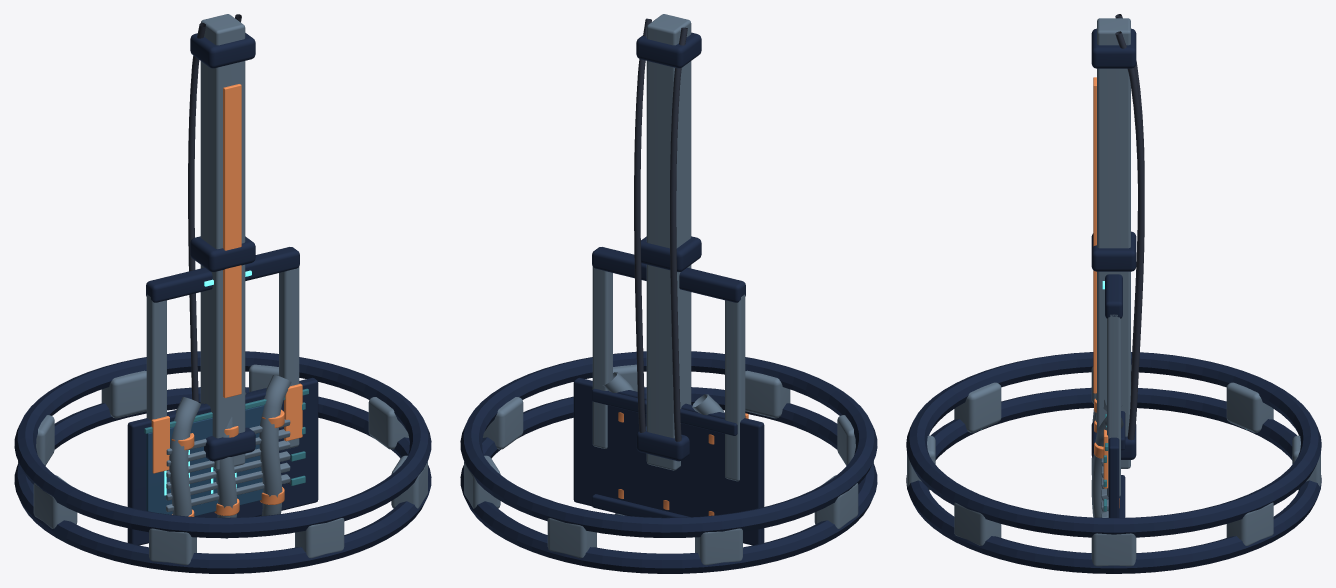
Rendered from foundry-kit.glb.
The picture shows the model from 3 angles, left to right: view 1: azimuth 30°, elevation 25°; view 2: azimuth 150°, elevation 25°; view 3: azimuth 270°, elevation 25°; orthographic projection.
Parts seen in each view (by area): view 1: core-crown / Forge / enamel navy, service-column / Forge / brushed alloy, core-crown / Forge / brushed alloy, research-inset / Forge / enamel navy, pipe-bank / Forge / brushed alloy, service-column / Forge / industrial orange, bulkhead-frame / Forge / brushed alloy, service-column / Forge / enamel navy, research-inset / Forge / optical blue, vent-bank / Forge / brushed alloy, bulkhead-frame / Forge / enamel navy, service-column / Forge / graphite (+3 smaller); view 2: core-crown / Forge / enamel navy, service-column / Forge / brushed alloy, core-crown / Forge / brushed alloy, vent-bank / Forge / enamel navy, research-inset / Forge / enamel navy, bulkhead-frame / Forge / brushed alloy, service-column / Forge / graphite, service-column / Forge / enamel navy, bulkhead-frame / Forge / enamel navy, pipe-bank / Forge / enamel navy, pipe-bank / Forge / brushed alloy; view 3: core-crown / Forge / enamel navy, service-column / Forge / brushed alloy, core-crown / Forge / brushed alloy, service-column / Forge / graphite, service-column / Forge / enamel navy, bulkhead-frame / Forge / brushed alloy, service-column / Forge / industrial orange, research-inset / Forge / enamel navy, pipe-bank / Forge / brushed alloy, bulkhead-frame / Forge / enamel navy.
Part boxes in pixels (x1,y1,x2,y2): core-crown / Forge / enamel navy: (14,351,431,573); service-column / Forge / brushed alloy: (200,14,245,470); core-crown / Forge / brushed alloy: (18,364,427,565); research-inset / Forge / enamel navy: (127,377,318,545); pipe-bank / Forge / brushed alloy: (169,375,291,538); service-column / Forge / industrial orange: (223,84,241,397); bulkhead-frame / Forge / brushed alloy: (146,267,299,448); service-column / Forge / enamel navy: (190,33,255,461); research-inset / Forge / optical blue: (146,405,264,516); vent-bank / Forge / brushed alloy: (166,419,290,511); bulkhead-frame / Forge / enamel navy: (146,247,299,302); service-column / Forge / graphite: (188,14,241,402); core-crown / Forge / enamel navy: (460,351,877,573); service-column / Forge / brushed alloy: (646,14,691,470); core-crown / Forge / brushed alloy: (464,364,873,565); vent-bank / Forge / enamel navy: (598,411,733,515); research-inset / Forge / enamel navy: (573,377,764,545); bulkhead-frame / Forge / brushed alloy: (592,267,745,481); service-column / Forge / graphite: (634,18,687,441); service-column / Forge / enamel navy: (636,32,701,461); bulkhead-frame / Forge / enamel navy: (592,247,745,302); pipe-bank / Forge / enamel navy: (592,388,737,517); pipe-bank / Forge / brushed alloy: (603,372,724,515); core-crown / Forge / enamel navy: (906,352,1321,573); service-column / Forge / brushed alloy: (1097,18,1130,468); core-crown / Forge / brushed alloy: (907,365,1320,566); service-column / Forge / graphite: (1115,14,1144,440); service-column / Forge / enamel navy: (1091,28,1136,459); bulkhead-frame / Forge / brushed alloy: (1107,314,1120,496); service-column / Forge / industrial orange: (1093,77,1096,393); research-inset / Forge / enamel navy: (1108,437,1119,517); pipe-bank / Forge / brushed alloy: (1091,393,1123,517); bulkhead-frame / Forge / enamel navy: (1105,274,1122,318).
Size of the model in its own units: 4.64 by 6.3 by 4.64.
